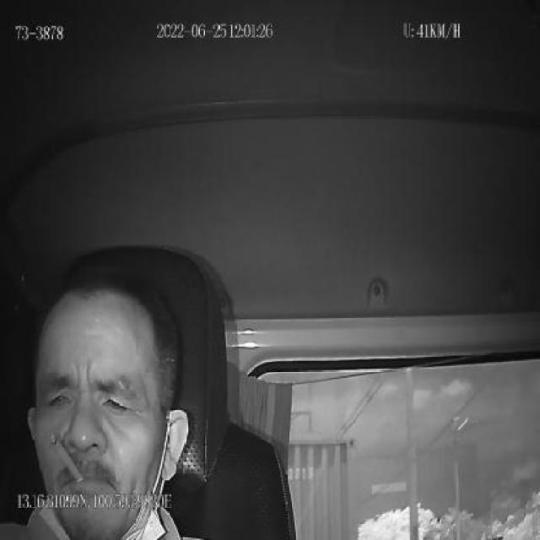smoking: (48, 428, 82, 483)
